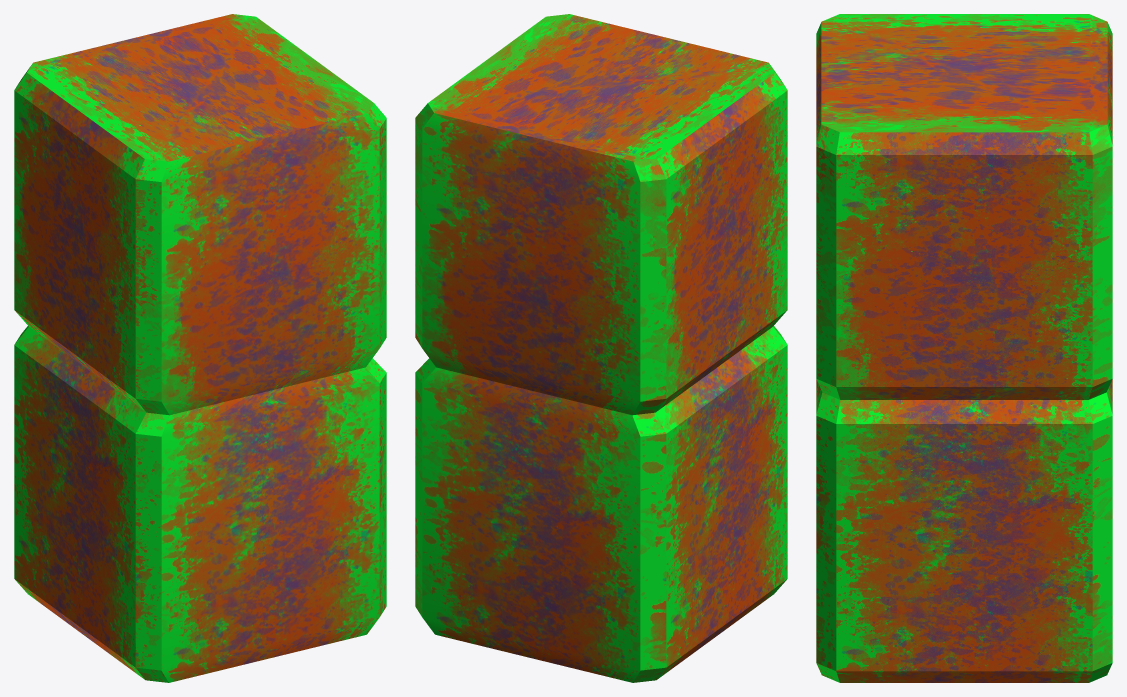
File: Ruins Pillar Short.fbx
The picture shows the model from 3 angles, left to right: view 1: azimuth 30°, elevation 25°; view 2: azimuth 150°, elevation 25°; view 3: azimuth 270°, elevation 25°; orthographic projection. The views are drawn at different scales.
Parts seen in each view (by area): view 1: Pillar Short; view 2: Pillar Short; view 3: Pillar Short.
Boxes of the visible parts, left/top/right/bottom form: Pillar Short: left=14, top=14, right=386, bottom=682; Pillar Short: left=415, top=14, right=787, bottom=682; Pillar Short: left=816, top=14, right=1112, bottom=682.
Size of the model in its own units: 266 by 528 by 258.
